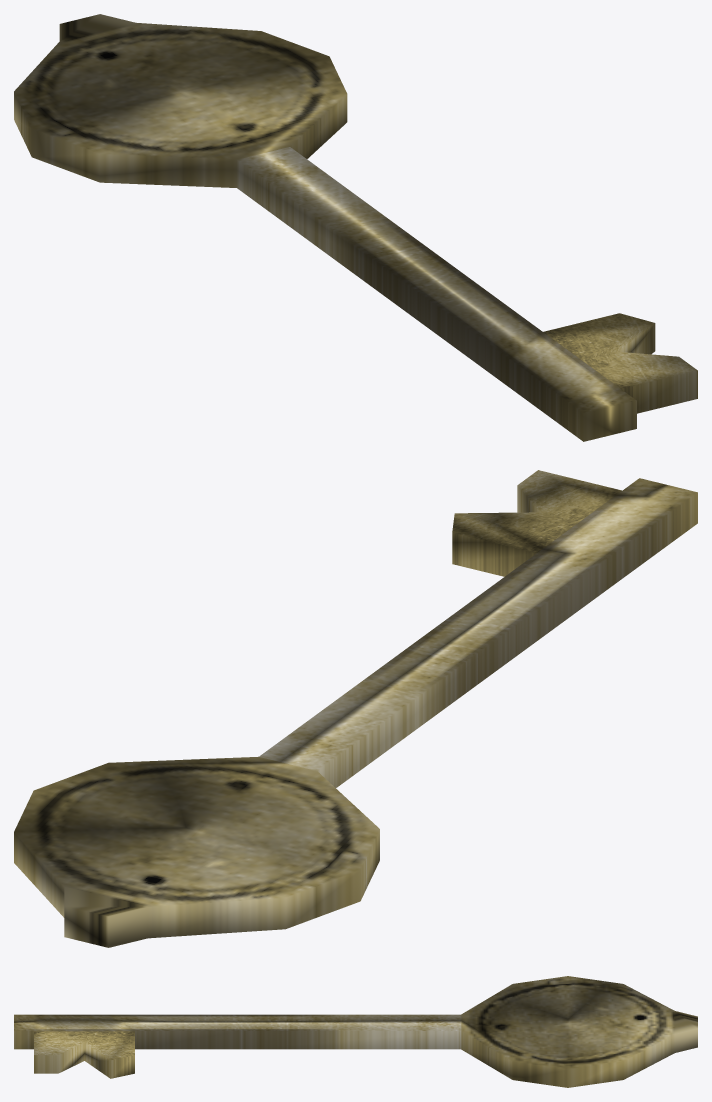
Rendered from key_old_gold.fbx.
3 renders of one model, top to bottom at view 1: azimuth 30°, elevation 25°; view 2: azimuth 150°, elevation 25°; view 3: azimuth 270°, elevation 25°, orthographic. The views are drawn at different scales.
Visible parts, largest first — view 1: key_old_g; view 2: key_old_g; view 3: key_old_g.
Part boxes in pixels (left/top/right/bottom): key_old_g: left=14, top=14, right=697, bottom=441; key_old_g: left=14, top=470, right=697, bottom=947; key_old_g: left=14, top=976, right=697, bottom=1087.
Size of the model in its own units: 9.46 by 0.8583 by 29.17.
Materials: 1 (1 with a texture image).
